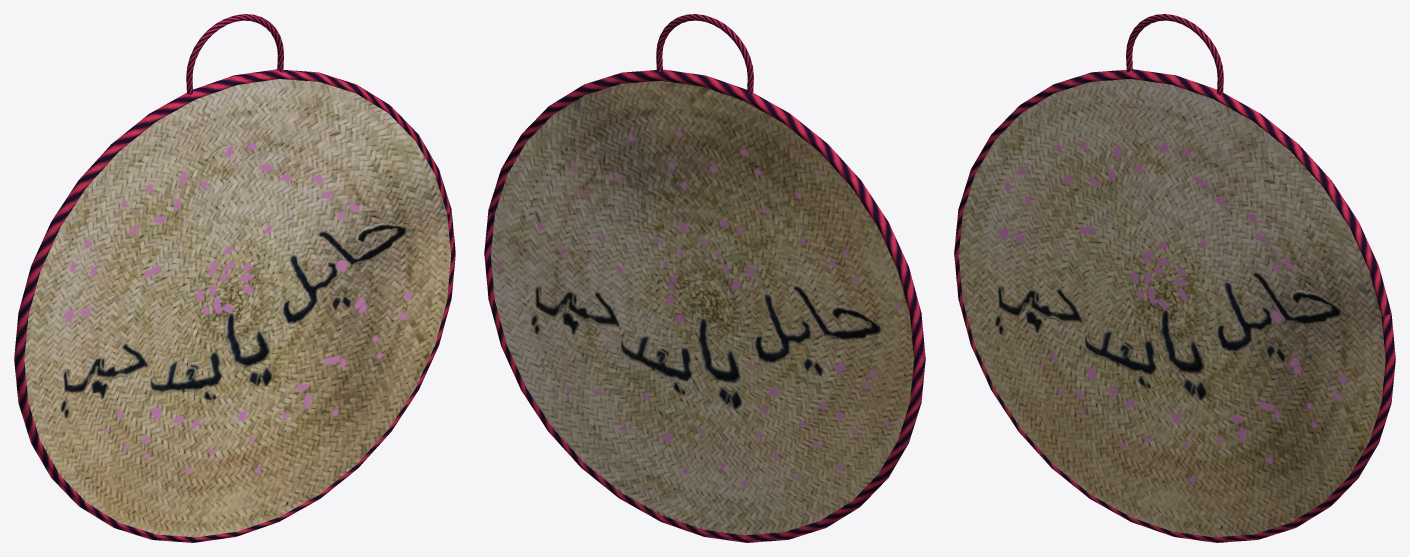
Rendered from Wicker dining 70cm.fbx.
3 renders of one model, left to right at view 1: azimuth 30°, elevation 25°; view 2: azimuth 150°, elevation 25°; view 3: azimuth 330°, elevation 25°, orthographic.
Visible parts, largest first — view 1: Wicker dining 70cm; view 2: Wicker dining 70cm; view 3: Wicker dining 70cm.
Boxes of the visible parts, <box> form: Wicker dining 70cm: <box>14,14,455,542</box>; Wicker dining 70cm: <box>484,14,925,542</box>; Wicker dining 70cm: <box>954,14,1395,542</box>.
Bounding box in the file's own units: 50.77 × 57.47 × 1.36.
